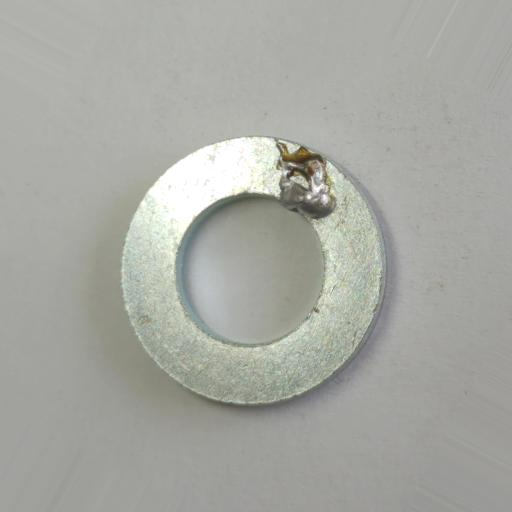excess_material: (275, 142, 337, 220)
